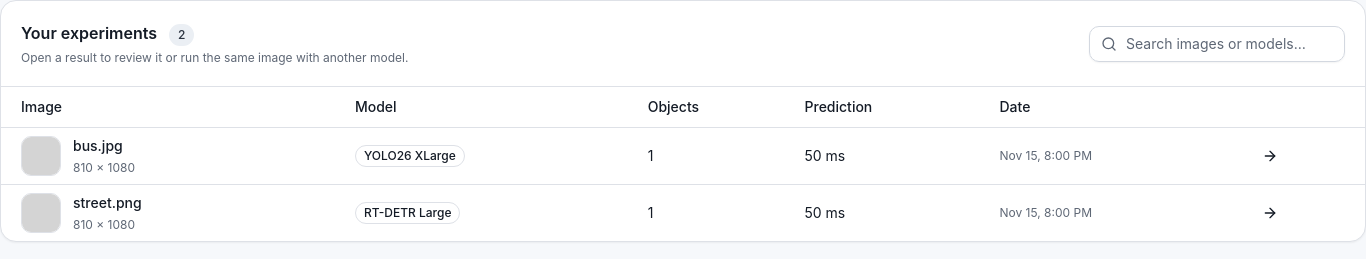
Test: studio interactions › filters saved tests by model and opens the chosen result
The image size is (1366, 259).
Later steps or results of the test are not shown.
Type "RT-DETR" into the field named "Search test history" at (1217, 44), box x1=1089 y1=26 x2=1345 y2=62
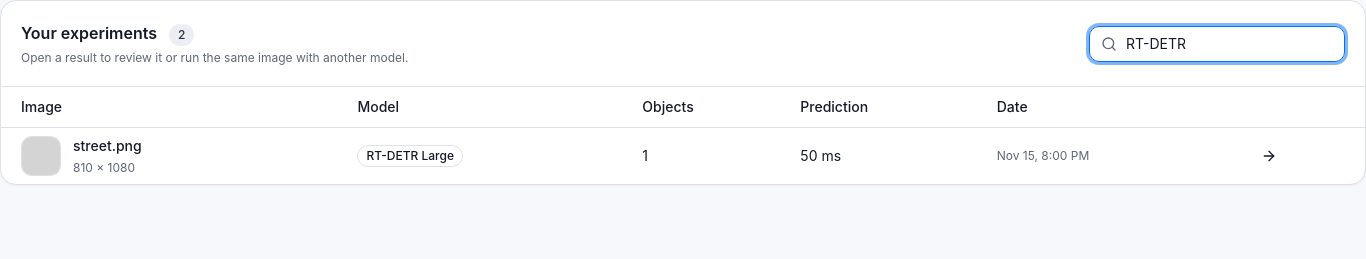
Result: the button "bus.jpg" is gone
